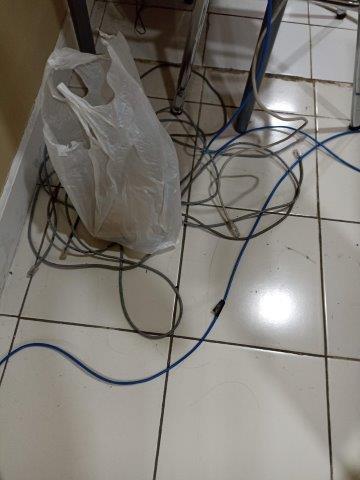plastik: (42, 34, 182, 248)
